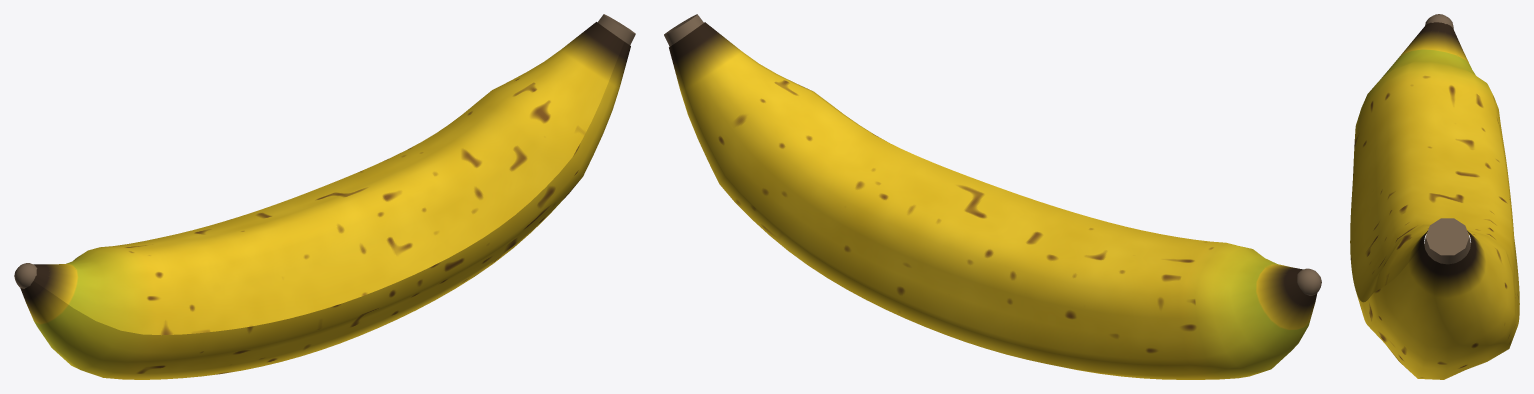
File: yellow_banana.glb
The picture shows the model from 3 angles, left to right: view 1: azimuth 30°, elevation 25°; view 2: azimuth 150°, elevation 25°; view 3: azimuth 270°, elevation 25°; orthographic projection. The views are drawn at different scales.
Visible parts, largest first — view 1: Fruit_03_Yellow_Banana_Body, Fruit_03_Yellow_Banana; view 2: Fruit_03_Yellow_Banana_Body, Fruit_03_Yellow_Banana; view 3: Fruit_03_Yellow_Banana_Body, Fruit_03_Yellow_Banana.
Part boxes in pixels (x1,y1,x2,y2): Fruit_03_Yellow_Banana_Body: (20,22,630,379); Fruit_03_Yellow_Banana: (14,14,635,288); Fruit_03_Yellow_Banana_Body: (669,22,1317,379); Fruit_03_Yellow_Banana: (664,14,1321,295); Fruit_03_Yellow_Banana_Body: (1350,22,1519,379); Fruit_03_Yellow_Banana: (1424,14,1470,264).
Bounding box in the file's own units: 0.1894 × 0.0728 × 0.0403.
Materials: 2 (1 with a texture image).
